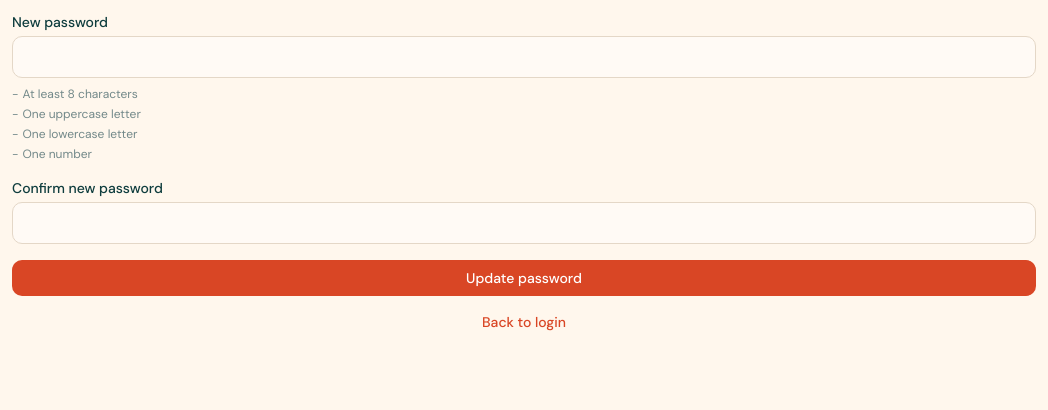
components/auth/UpdatePasswordForm › shows error message when update fails
This screenshot has width=1048, height=410.
Type "Password123!" into the password field labelled "New password" at coordinates (524, 57), box [12, 36, 1036, 78]
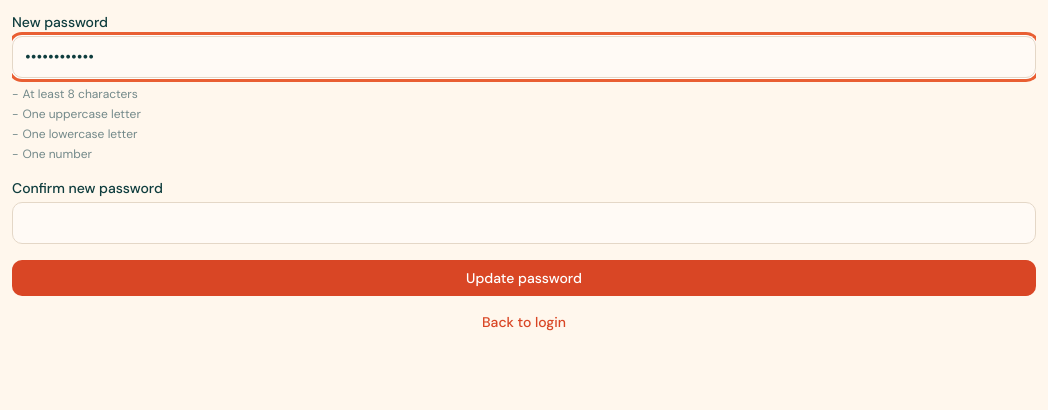
Type "Password123!" into the password field labelled "Confirm new password" at coordinates (524, 223), box [12, 202, 1036, 244]
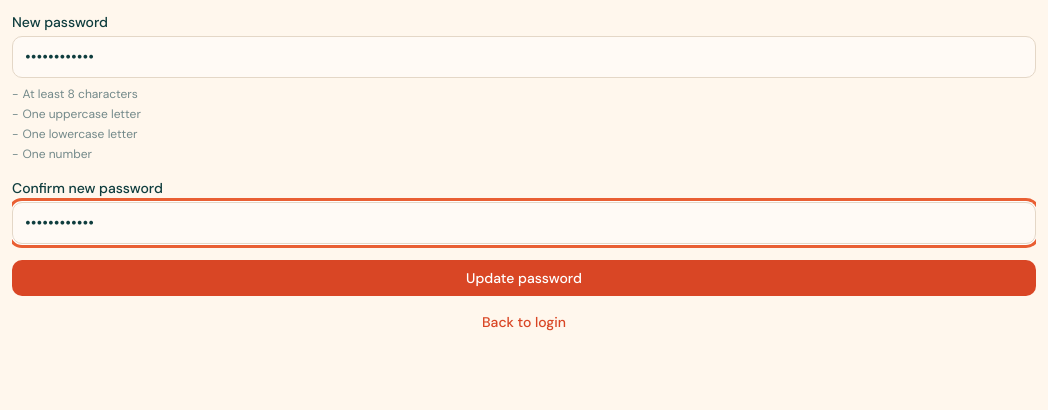
Click the button "Update password" at coordinates (524, 278), box [12, 260, 1036, 296]
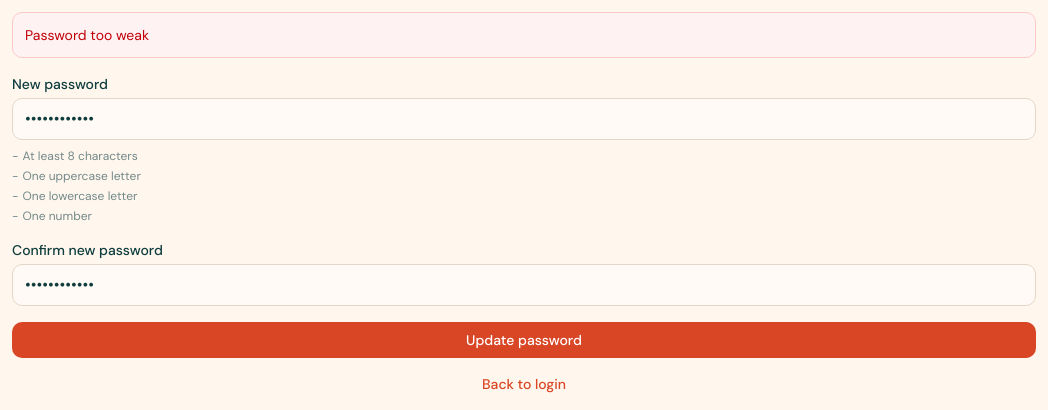
Result: the message reads "Password too weak" at [25, 26, 149, 44]
